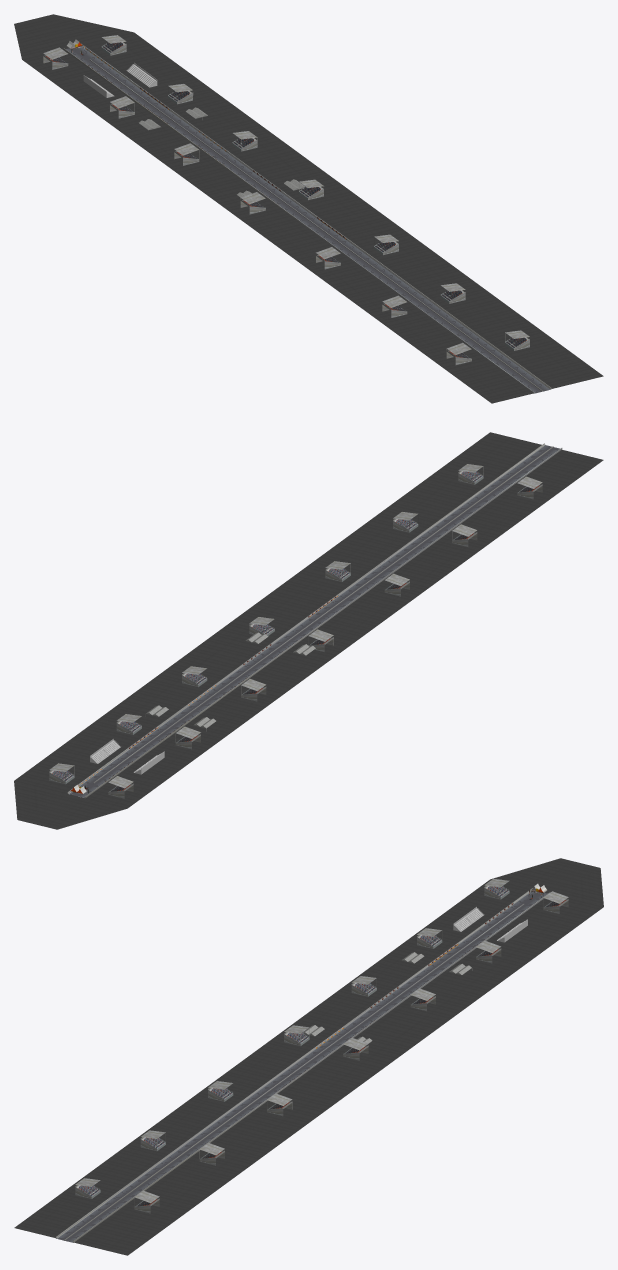
Rendered from sirkuit drag.fbx.
3 views of the same model, one above another, from view 1: azimuth 30°, elevation 25°; view 2: azimuth 150°, elevation 25°; view 3: azimuth 330°, elevation 25° (orthographic).
Parts seen in each view (by area): view 1: Plane.004, Plane.005, Cube.019, Cube.030, Cube.008; view 2: Plane.004, Plane.005, Cube.019, Cube.030, Cube.008; view 3: Plane.004, Plane.005, Cube.030, Cube.019, Cube.008.
Part boxes in pixels (bbox=[...]): Plane.004: bbox=[14, 14, 603, 403]; Plane.005: bbox=[66, 46, 549, 393]; Cube.019: bbox=[81, 43, 551, 389]; Cube.030: bbox=[63, 48, 534, 393]; Cube.008: bbox=[89, 59, 542, 391]; Plane.004: bbox=[14, 432, 603, 829]; Plane.005: bbox=[69, 445, 559, 797]; Cube.019: bbox=[67, 443, 545, 793]; Cube.030: bbox=[84, 448, 562, 798]; Cube.008: bbox=[93, 446, 553, 783]; Plane.004: bbox=[14, 858, 603, 1255]; Plane.005: bbox=[57, 890, 547, 1242]; Cube.030: bbox=[55, 888, 532, 1238]; Cube.019: bbox=[72, 892, 550, 1242]; Cube.008: bbox=[64, 904, 524, 1240].
Bounding box in the file's own units: 2175 × 231 × 17105.
